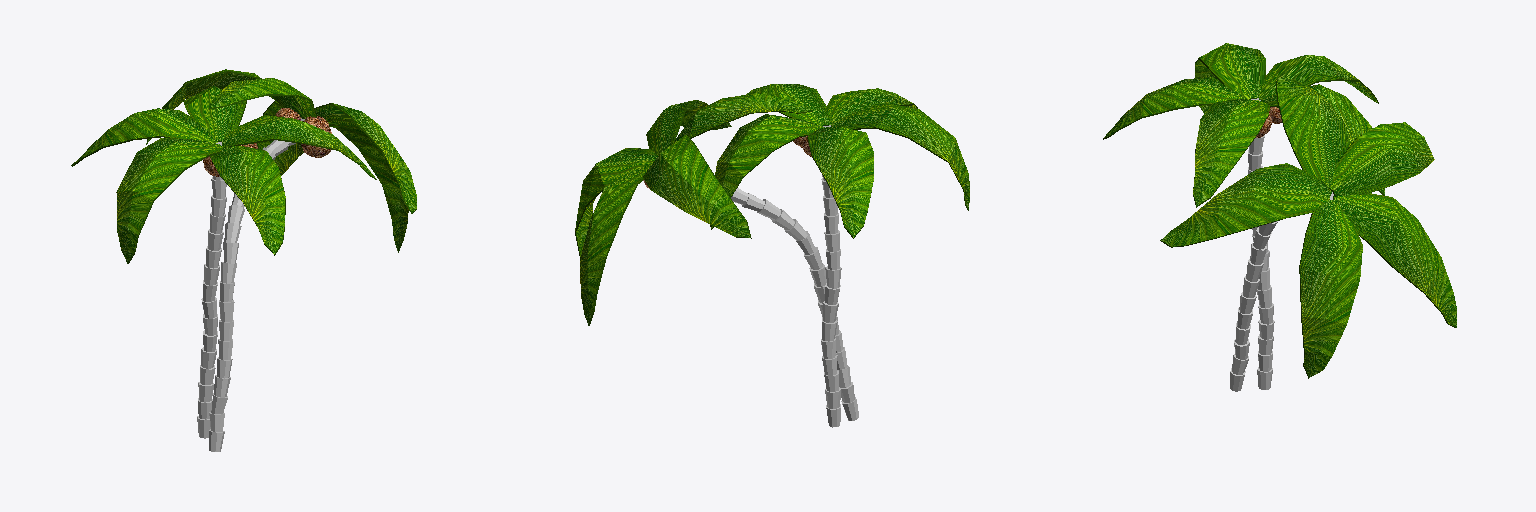
The picture shows the model from 3 angles: view 1: azimuth 30°, elevation 25°; view 2: azimuth 150°, elevation 25°; view 3: azimuth 270°, elevation 25°; orthographic projection.
Visible parts, largest first — view 1: double_tree; view 2: double_tree; view 3: double_tree.
Part boxes in pixels (left/top/right/bottom): double_tree: left=71, top=69, right=416, bottom=451; double_tree: left=575, top=84, right=969, bottom=427; double_tree: left=1103, top=43, right=1456, bottom=391.
Size of the model in its own units: 12.58 by 11.81 by 11.55.
3 materials, 2 textured.